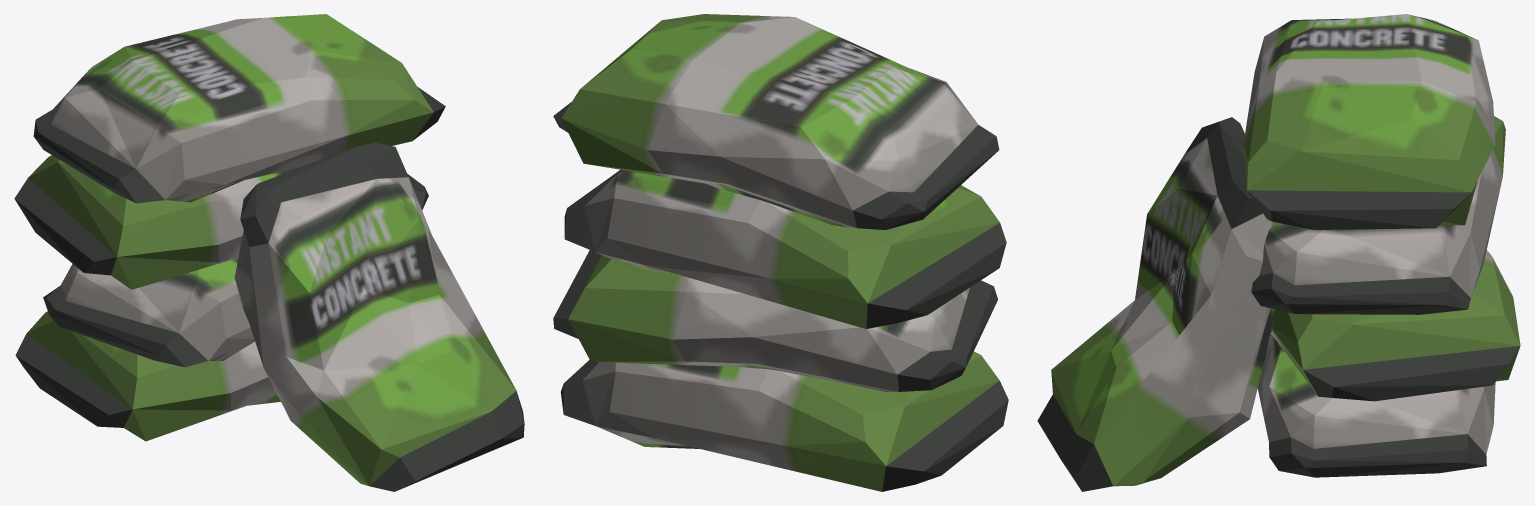
File: SM_Prop_ConcreteBag_Stack_02.obj
The picture shows the model from 3 angles, left to right: view 1: azimuth 30°, elevation 25°; view 2: azimuth 150°, elevation 25°; view 3: azimuth 270°, elevation 25°; orthographic projection. The views are drawn at different scales.
Parts seen in each view (by area): view 1: SM_Prop_ConcreteBag_Stack_02_0; view 2: SM_Prop_ConcreteBag_Stack_02_0; view 3: SM_Prop_ConcreteBag_Stack_02_0.
Part boxes in pixels (x1,y1,x2,y2): SM_Prop_ConcreteBag_Stack_02_0: (14,14,524,491); SM_Prop_ConcreteBag_Stack_02_0: (553,14,1008,491); SM_Prop_ConcreteBag_Stack_02_0: (1037,14,1520,491).
Size of the model in its own units: 0.8569 by 0.7873 by 0.9294.
Materials: 1 (1 with a texture image).
